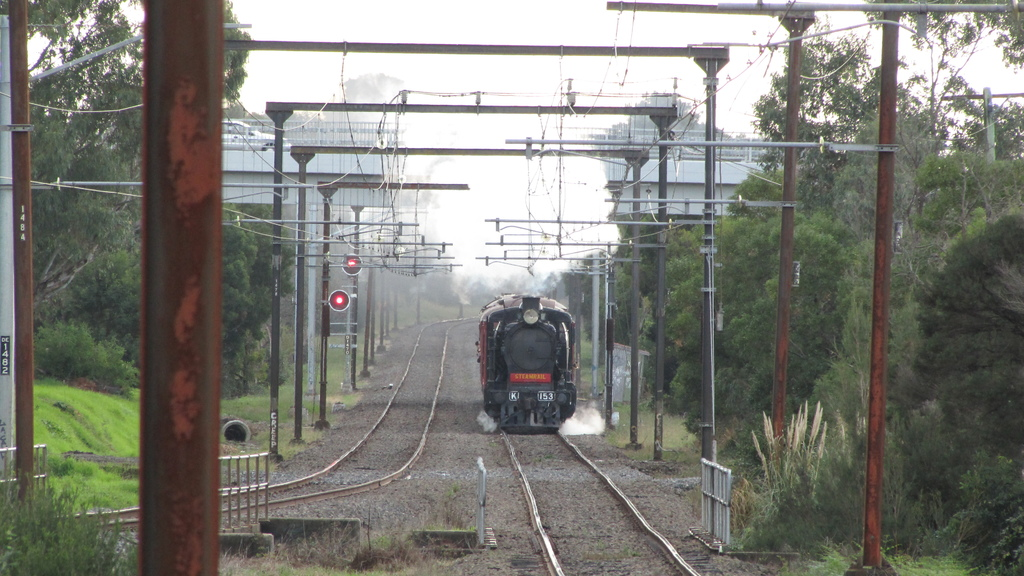train: (478, 286, 582, 433)
